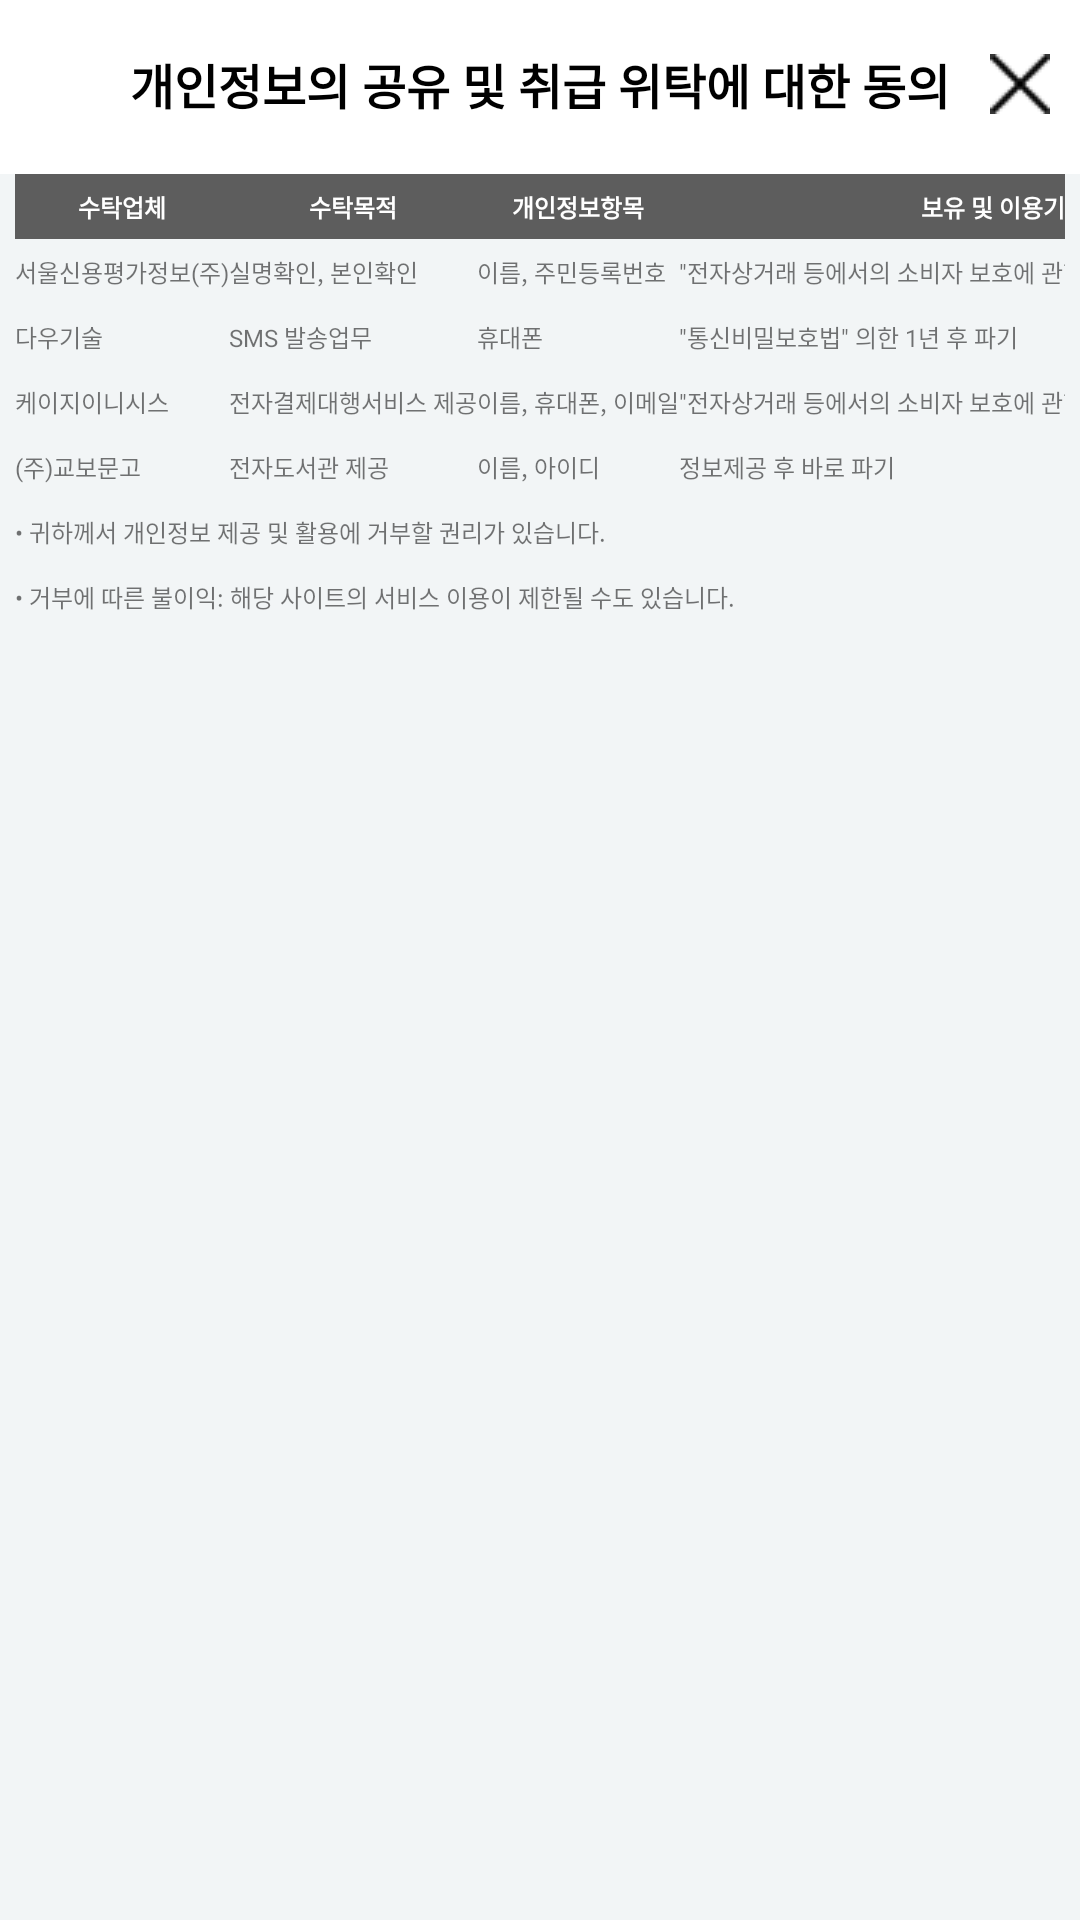

Named icons in this screenshot (1080 × 1920) and their centers, (x,y):
close: (1020,84)
